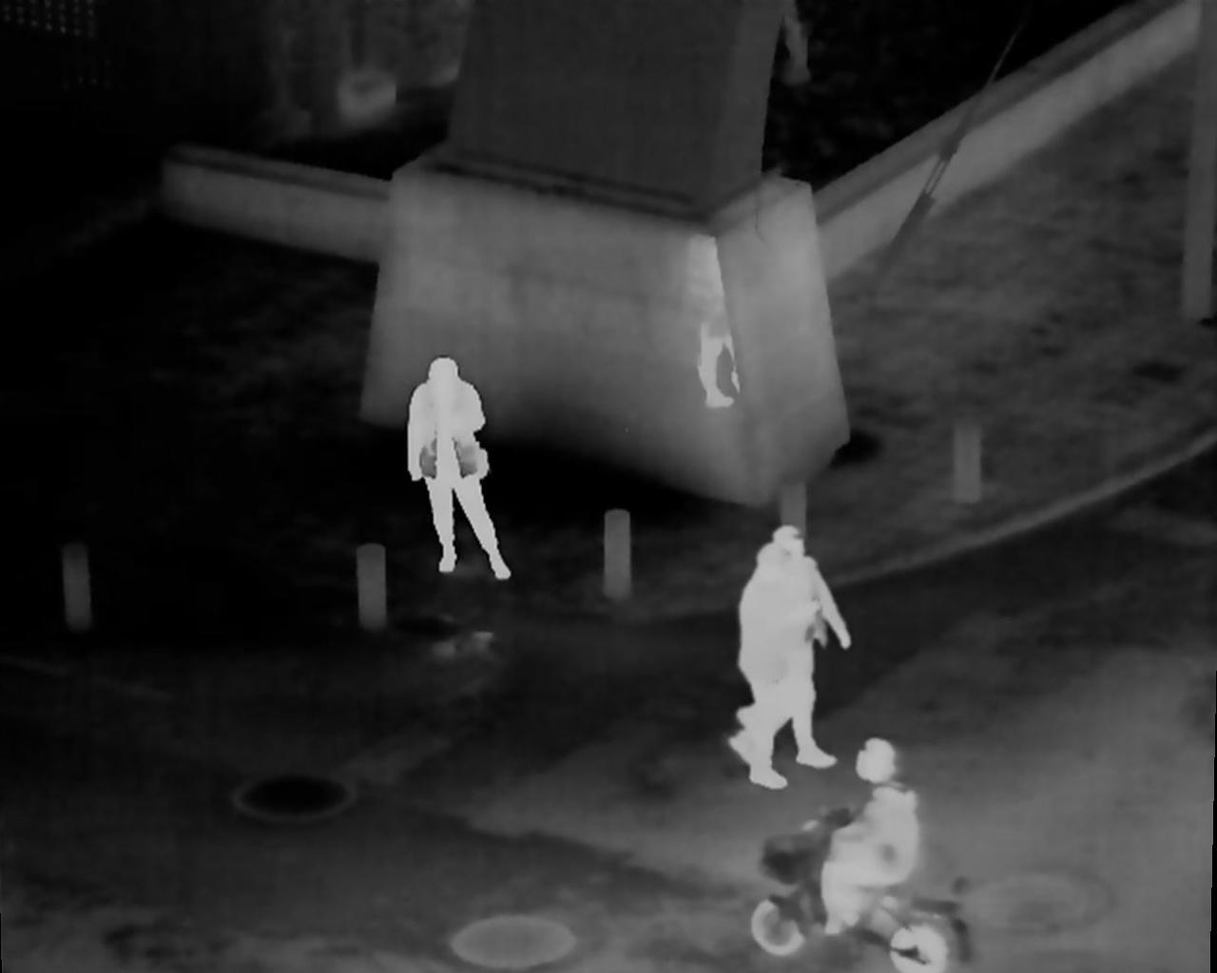person: (734, 525, 849, 768), (413, 354, 514, 582), (730, 542, 819, 788), (817, 733, 926, 929)
